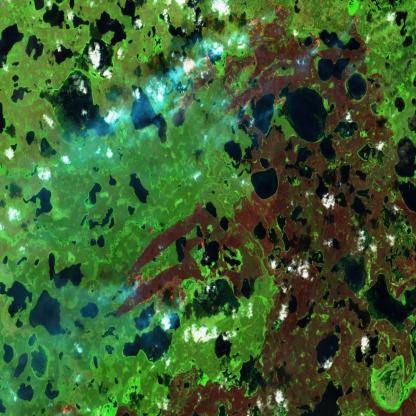fire: (170, 0, 380, 121), (115, 231, 211, 321), (54, 398, 77, 416)
